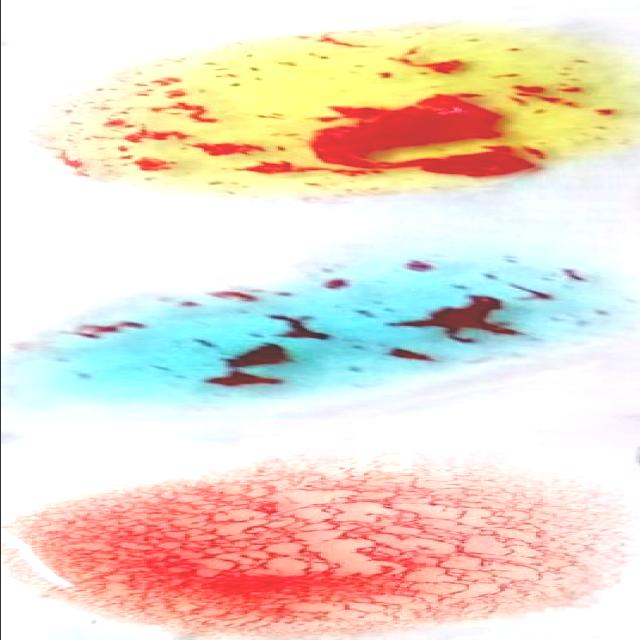A: (0, 246, 640, 410)
B: (6, 36, 626, 198)
D: (0, 479, 635, 630)
